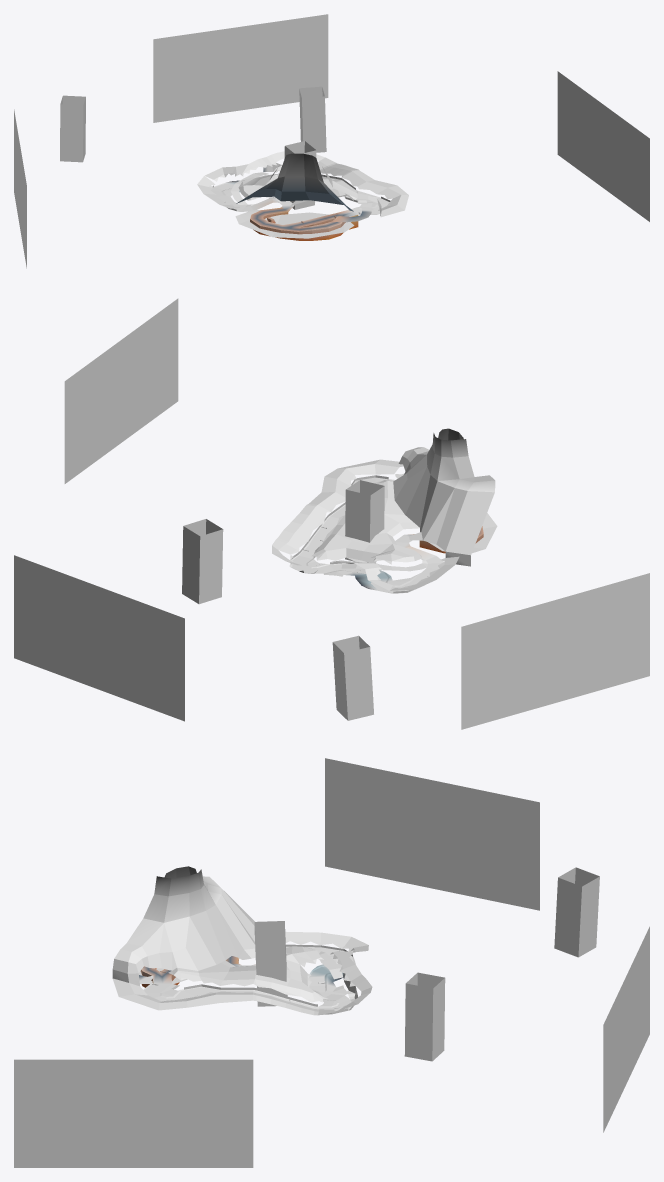
The model's file is track_01_sm.glb.
3 renders of one model, top to bottom at view 1: azimuth 30°, elevation 25°; view 2: azimuth 150°, elevation 25°; view 3: azimuth 270°, elevation 25°, orthographic. The views are drawn at different scales.
Parts seen in each view (by area): view 1: MountainBackdropMesh.002, MountainBackdropMesh.001, VulcanoDeco.001, RoadMesh.001-col, TreesDeco.001, BuildingMesh.002, BuildingMesh.003, MountainBackdropMesh.003, BuildingMesh.001, GrassMesh.001-col; view 2: MountainBackdropMesh.003, MountainBackdropMesh.002, MountainBackdropMesh.001, VulcanoDeco.001, TreesDeco.001, BuildingMesh.003, BuildingMesh.002, RoadMesh.001-col, BuildingMesh.001, GrassMesh.001-col; view 3: MountainBackdropMesh.001, MountainBackdropMesh.003, VulcanoDeco.001, TreesDeco.001, MountainBackdropMesh.002, BuildingMesh.002, BuildingMesh.003, RoadMesh.001-col, BuildingMesh.001, GrassMesh.001-col, BushMesh.001.
Part boxes in pixels (<box>): MountainBackdropMesh.002: <box>153,14,328,122</box>; MountainBackdropMesh.001: <box>557,71,649,221</box>; VulcanoDeco.001: <box>235,153,381,238</box>; RoadMesh.001-col: <box>211,163,389,240</box>; TreesDeco.001: <box>197,151,408,217</box>; BuildingMesh.002: <box>60,95,85,162</box>; BuildingMesh.003: <box>299,86,326,152</box>; MountainBackdropMesh.003: <box>14,109,26,268</box>; BuildingMesh.001: <box>284,141,316,209</box>; GrassMesh.001-col: <box>213,175,389,214</box>; MountainBackdropMesh.003: <box>461,573,649,729</box>; MountainBackdropMesh.002: <box>14,555,184,721</box>; MountainBackdropMesh.001: <box>64,298,178,483</box>; VulcanoDeco.001: <box>387,428,497,566</box>; TreesDeco.001: <box>272,459,459,590</box>; BuildingMesh.003: <box>182,519,223,604</box>; BuildingMesh.002: <box>332,635,373,720</box>; RoadMesh.001-col: <box>292,474,483,592</box>; BuildingMesh.001: <box>345,480,384,562</box>; GrassMesh.001-col: <box>289,477,423,593</box>; MountainBackdropMesh.001: <box>14,1059,253,1167</box>; MountainBackdropMesh.003: <box>325,758,539,910</box>; VulcanoDeco.001: <box>112,866,312,986</box>; TreesDeco.001: <box>112,931,372,1015</box>; MountainBackdropMesh.002: <box>603,926,649,1132</box>; BuildingMesh.002: <box>554,867,599,957</box>; BuildingMesh.003: <box>404,972,445,1061</box>; RoadMesh.001-col: <box>139,947,357,1010</box>; BuildingMesh.001: <box>254,921,287,1006</box>; GrassMesh.001-col: <box>143,946,355,1014</box>; BushMesh.001: <box>184,944,352,1014</box>.
Size of what is drawn, in the model's own units: 1072 by 226 by 907.
